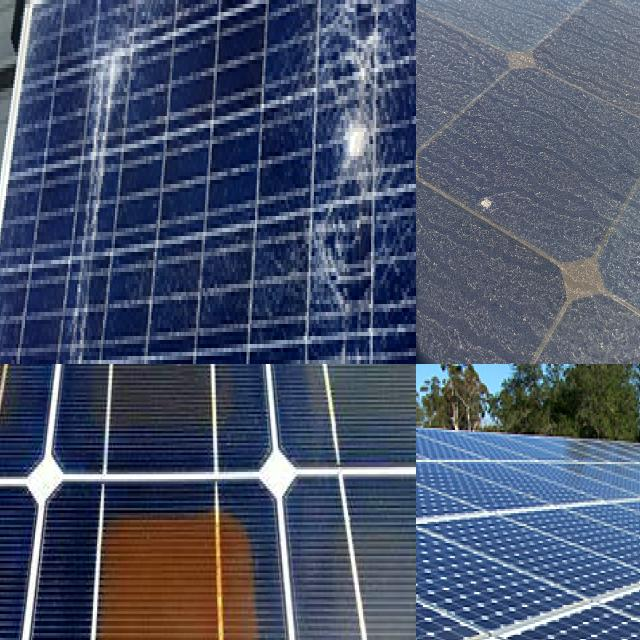crack: (417, 537, 469, 603), (487, 528, 545, 562), (416, 537, 455, 580), (416, 586, 444, 640), (545, 622, 628, 640), (586, 614, 640, 640)
dust: (461, 69, 617, 255), (478, 0, 640, 94), (416, 255, 500, 364), (416, 0, 475, 138), (577, 296, 640, 364)
hotspot: (314, 2, 406, 274), (81, 26, 138, 194)
shadow: (79, 460, 270, 640), (89, 364, 246, 440), (301, 364, 416, 433), (0, 364, 75, 443)
